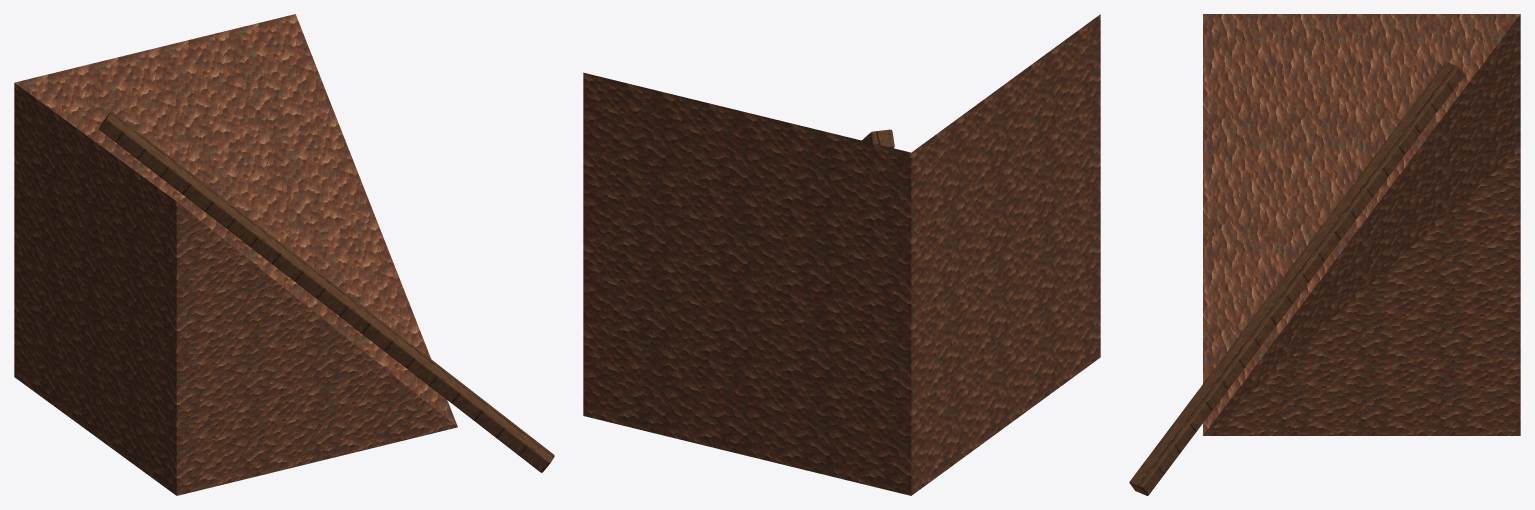
The model's file is roof_45_inner__copper_ingot.glb.
3 views of the same model, side by side, from view 1: azimuth 30°, elevation 25°; view 2: azimuth 150°, elevation 25°; view 3: azimuth 270°, elevation 25° (orthographic). The views are drawn at different scales.
Parts seen in each view (by area): view 1: model; view 2: model; view 3: model.
Part boxes in pixels (box(x1,y1,x2,y2)): model: box(14, 14, 554, 495); model: box(583, 14, 1100, 495); model: box(1129, 14, 1520, 495).
Bounding box in the file's own units: 2.46 × 2.22 × 2.46.
2 materials, 2 textured.
